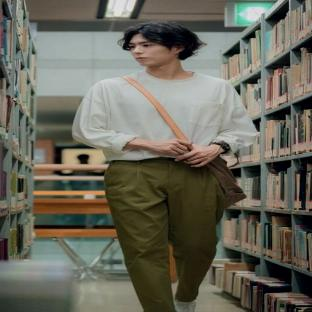Human: (72, 21, 257, 312)
